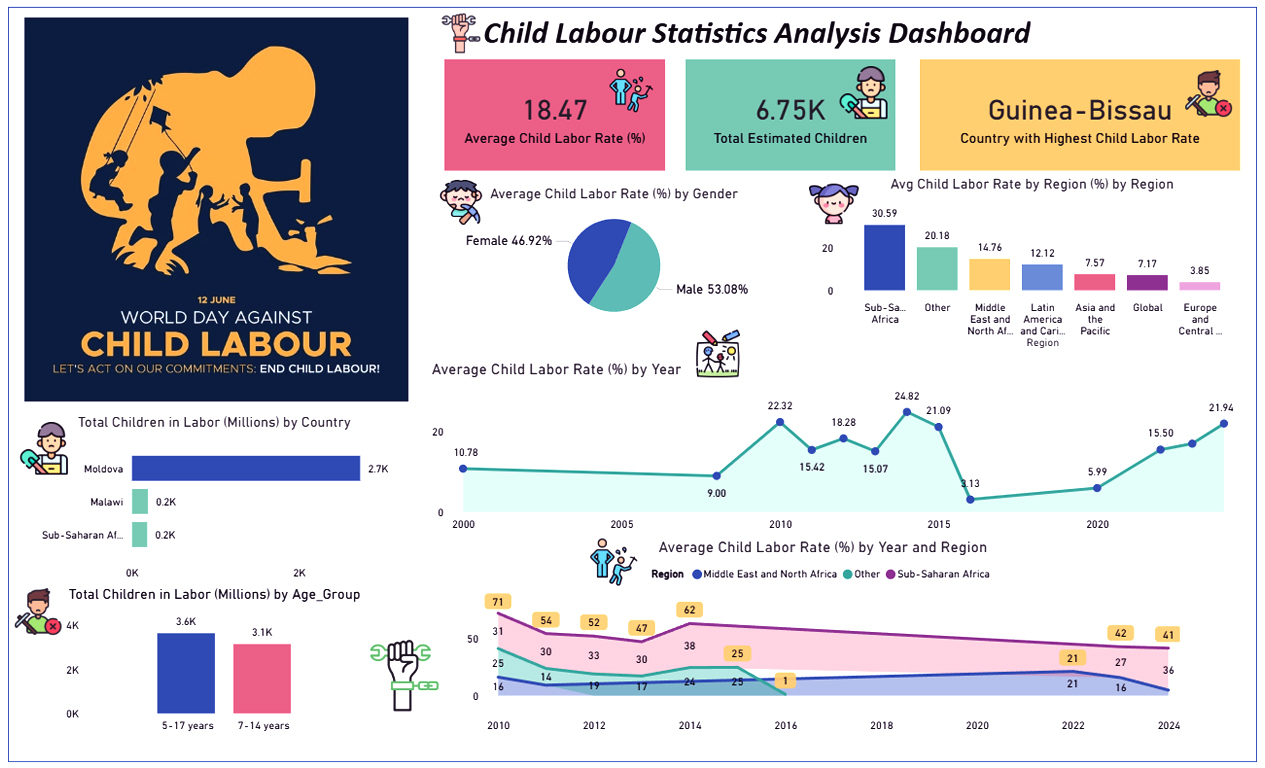

The page's visual inventory and layout, read from the dashboard file:
{"tool":"powerbi","page":{"name":"Page 1","canvas":[1300,790],"ordinal":0},"visuals":[{"type":"image","box":[20.9,19.9,407.9,393],"z":0},{"type":"card","fields":{"Values":["child_labor_statistics - child_.Average Child Labor Rate (%)"]},"box":[457.7,62.7,225.9,114.4],"z":1000},{"type":"card","fields":{"Values":["Sum(child_labor_statistics - child_.Estimated_Children_Millions)"]},"box":[704.4,62.7,214.9,114.4],"z":2000},{"type":"card","fields":{"Values":["child_labor_statistics - child_.Country with Highest Child Labor Rate"]},"box":[944.2,62.7,328.3,114.4],"z":3000},{"type":"columnChart","fields":{"Category":["child_labor_statistics - child_.Region"],"Y":["child_labor_statistics - child_.Avg Child Labor Rate by Region (%)"]},"box":[838.8,182.1,440.8,181.1],"z":4000},{"type":"pieChart","fields":{"Category":["child_labor_statistics - child_.Gender"],"Y":["child_labor_statistics - child_.Average Child Labor Rate (%)"]},"box":[457.7,192,347.2,147.3],"z":5000},{"type":"barChart","fields":{"Category":["child_labor_statistics - child_.Country"],"Y":["child_labor_statistics - child_.Total Children in Labor (Millions)"]},"box":[27.9,425.8,389,176.1],"z":6000},{"type":"lineChart","fields":{"Category":["child_labor_statistics - child_.Year"],"Y":["child_labor_statistics - child_.Average Child Labor Rate (%)"]},"box":[439.8,370.1,832.8,182.1],"z":7000},{"type":"columnChart","fields":{"Category":["child_labor_statistics - child_.Age_Group"],"Y":["child_labor_statistics - child_.Total Children in Labor (Millions)"]},"box":[65.7,602,313.4,156.2],"z":8000},{"type":"stackedAreaChart","fields":{"Category":["child_labor_statistics - child_.Year"],"Y":["child_labor_statistics - child_.Average Child Labor Rate (%)"],"Series":["child_labor_statistics - child_.Region"]},"box":[474.6,552.2,741.2,206],"z":9000},{"type":"shape","box":[497.5,9.9,610.9,51.7],"z":9001},{"type":"image","box":[617.9,71.6,62.7,45.8],"z":9002},{"type":"image","box":[859.6,68.7,53.7,56.7],"z":9003},{"type":"image","box":[1215.8,71.6,47.8,51.7],"z":9004},{"type":"image","box":[451.7,182.1,45.8,54.7],"z":9005},{"type":"image","box":[830.8,184.1,50.7,52.7],"z":9006},{"type":"image","box":[712.4,339.3,50.7,48.8],"z":9007},{"type":"image","box":[20.9,432.8,53.7,56.7],"z":9008},{"type":"image","box":[17.9,602,47.8,51.7],"z":9009},{"type":"image","box":[600,552.2,62.7,49.7],"z":9010},{"type":"image","box":[449.7,14.9,49.7,41.8],"z":9011},{"type":"image","box":[372.1,643.7,88.6,99.5],"z":9012},{"type":"shape","box":[10.9,9,1278.5,773.1],"z":9013}]}

Visuals, with their boxes in screenshot pixels (x1, y1, x2, y2), scaled from the page's 1300x790 canvas onto the 1265x768 screenshot:
image: (left=20, top=19, right=417, bottom=401)
card - child_labor_statistics - child_.Average Child Labor Rate (%): (left=445, top=61, right=665, bottom=172)
card - Sum(child_labor_statistics - child_.Estimated_Children_Millions): (left=685, top=61, right=895, bottom=172)
card - child_labor_statistics - child_.Country with Highest Child Labor Rate: (left=919, top=61, right=1238, bottom=172)
columnChart - child_labor_statistics - child_.Region x child_labor_statistics - child_.Avg Child Labor Rate by Region (%): (left=816, top=177, right=1245, bottom=353)
pieChart - child_labor_statistics - child_.Gender x child_labor_statistics - child_.Average Child Labor Rate (%): (left=445, top=187, right=783, bottom=330)
barChart - child_labor_statistics - child_.Country x child_labor_statistics - child_.Total Children in Labor (Millions): (left=27, top=414, right=406, bottom=585)
lineChart - child_labor_statistics - child_.Year x child_labor_statistics - child_.Average Child Labor Rate (%): (left=428, top=360, right=1238, bottom=537)
columnChart - child_labor_statistics - child_.Age_Group x child_labor_statistics - child_.Total Children in Labor (Millions): (left=64, top=585, right=369, bottom=737)
stackedAreaChart - child_labor_statistics - child_.Year x child_labor_statistics - child_.Average Child Labor Rate (%): (left=462, top=537, right=1183, bottom=737)
shape: (left=484, top=10, right=1079, bottom=60)
image: (left=601, top=70, right=662, bottom=114)
image: (left=836, top=67, right=889, bottom=122)
image: (left=1183, top=70, right=1230, bottom=120)
image: (left=440, top=177, right=484, bottom=230)
image: (left=808, top=179, right=858, bottom=230)
image: (left=693, top=330, right=743, bottom=377)
image: (left=20, top=421, right=73, bottom=476)
image: (left=17, top=585, right=64, bottom=635)
image: (left=584, top=537, right=645, bottom=585)
image: (left=438, top=14, right=486, bottom=55)
image: (left=362, top=626, right=448, bottom=723)
shape: (left=11, top=9, right=1255, bottom=760)
